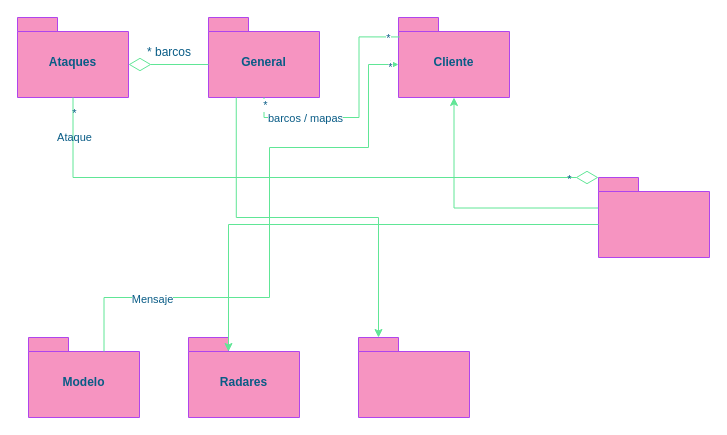
The diagram is 727 pixels wide and 435 high, and some of its shapes have lost their labels. The box of each missing label's shape, as (x1, y1, x2, y2) in pixels:
Command: (598, 176, 710, 258)
Servidor: (358, 336, 470, 418)
